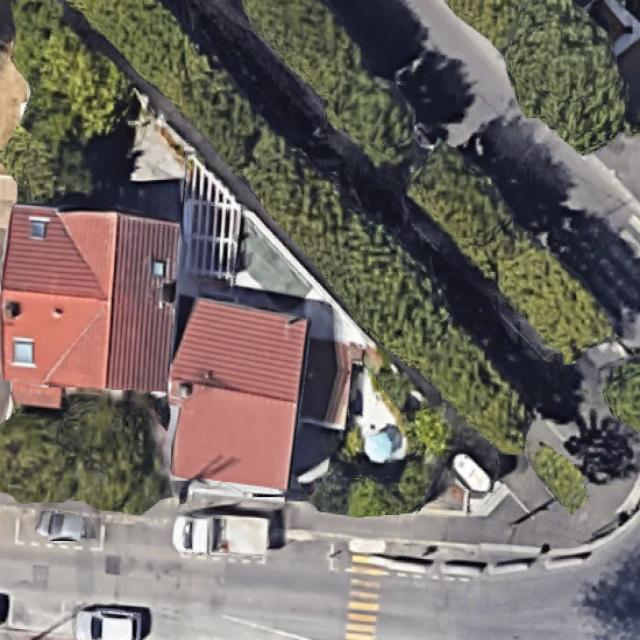maison: (157, 296, 356, 497), (0, 203, 176, 410)
